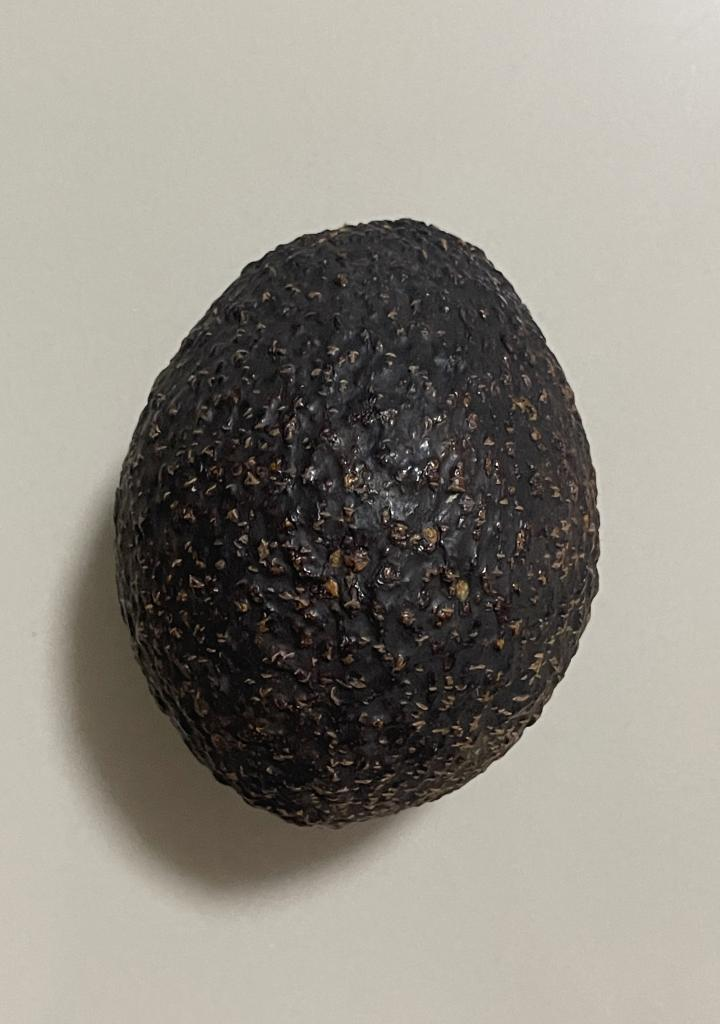Level3: (103, 203, 608, 841)
